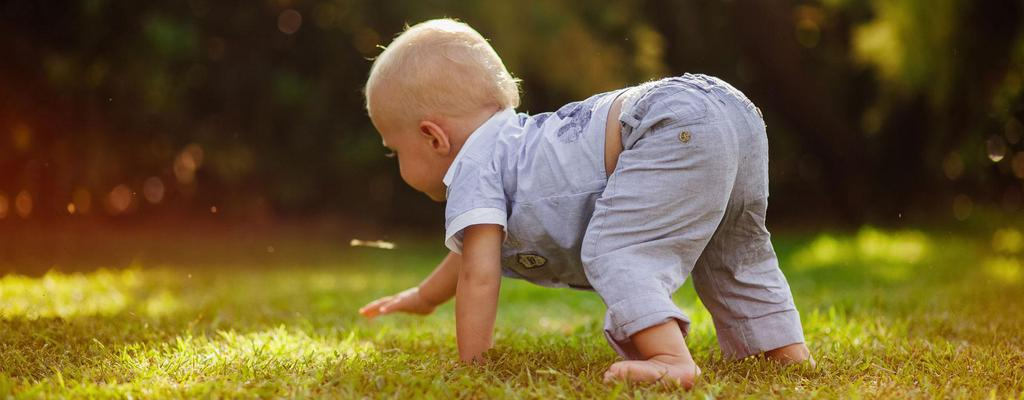child: (331, 11, 843, 389)
